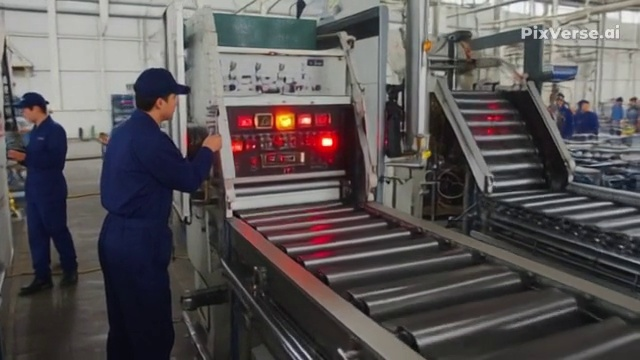0 employé: (110, 53, 188, 349), (9, 85, 80, 293), (574, 92, 603, 136), (556, 92, 571, 133)
1 machine: (184, 25, 399, 338), (441, 45, 555, 226)
2 machine_arraitee: (215, 96, 363, 194)
